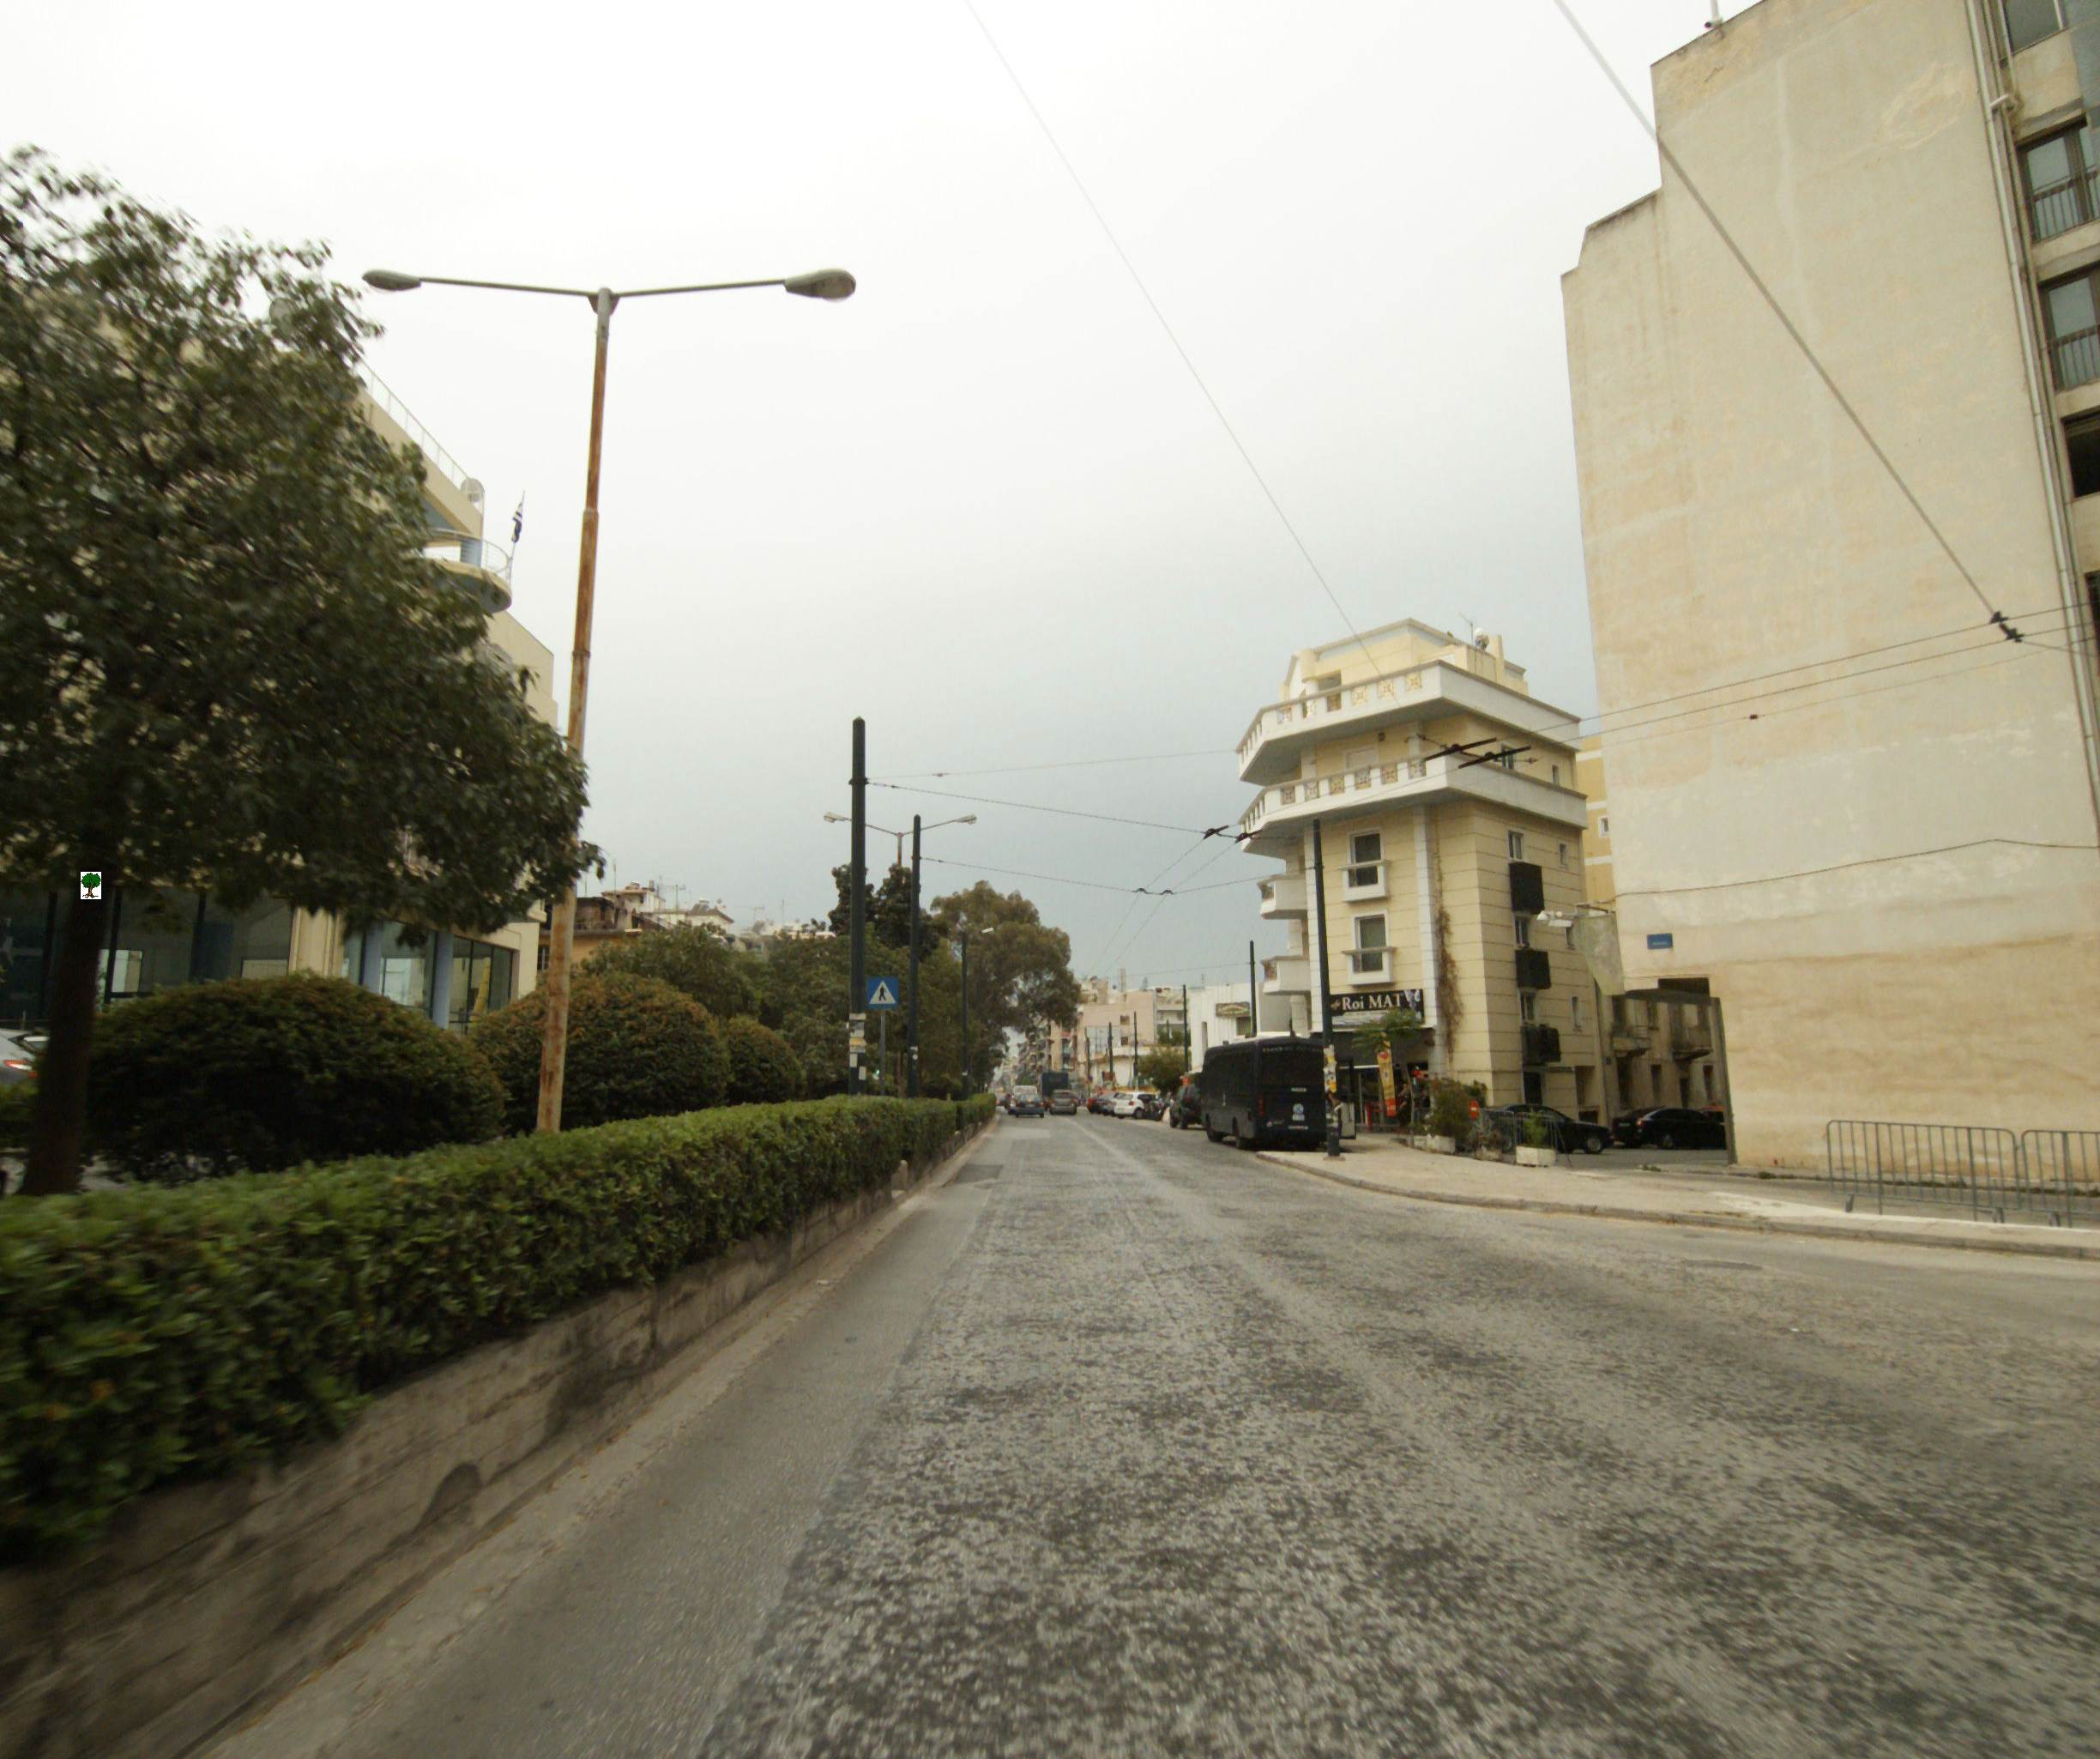tree: (5, 140, 365, 1204)
